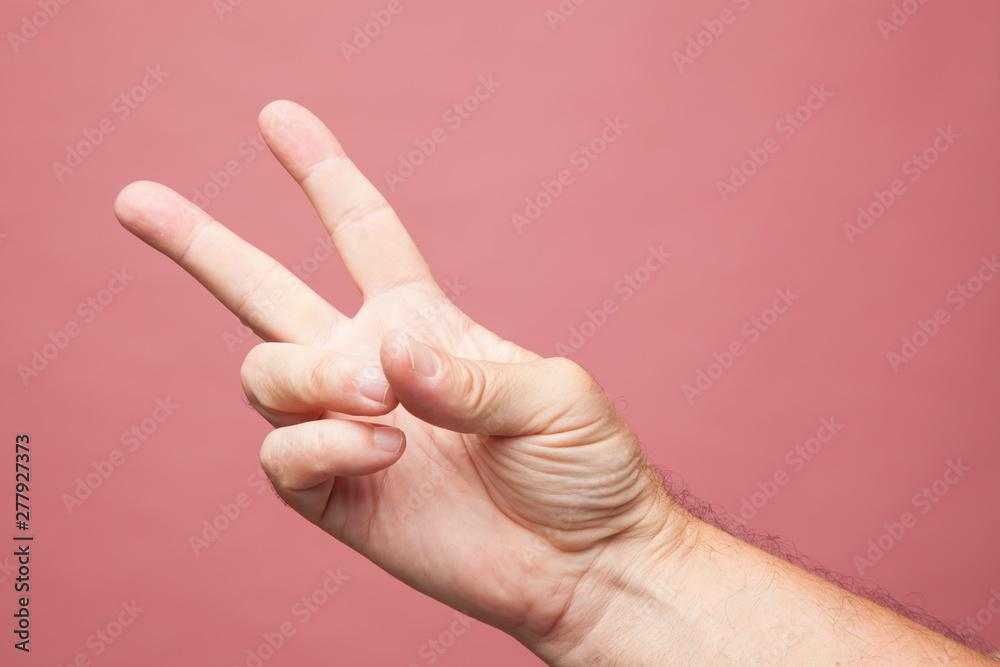peace_sign: (97, 75, 688, 658)
